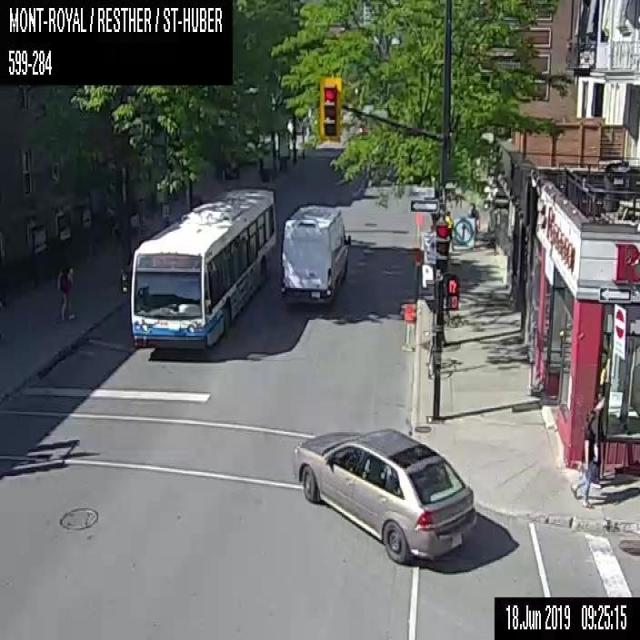bus: (122, 188, 276, 349)
construction: (401, 304, 416, 351)
pedestrian: (570, 408, 597, 506), (56, 266, 76, 318), (468, 202, 479, 232), (445, 210, 453, 238)
vehicle: (293, 425, 477, 563), (280, 205, 351, 303)
